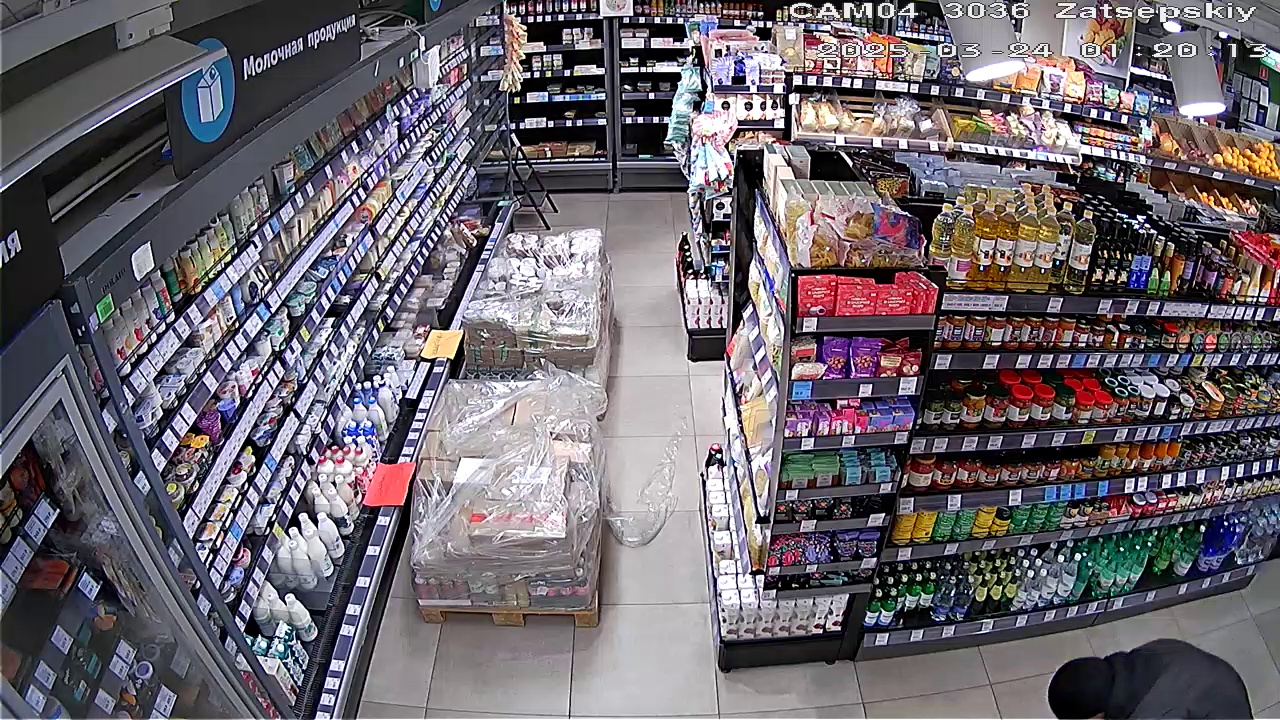Human: (1032, 633, 1258, 719)
pallet: (411, 373, 606, 628), (466, 223, 610, 398)
